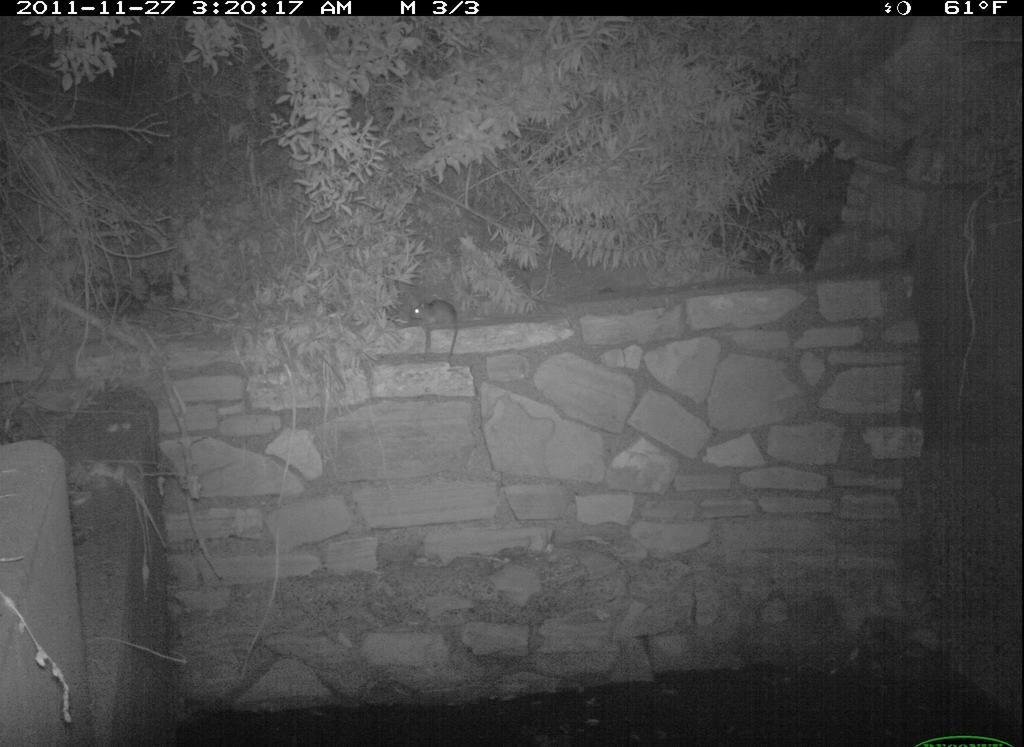rodent: (401, 295, 477, 361)
